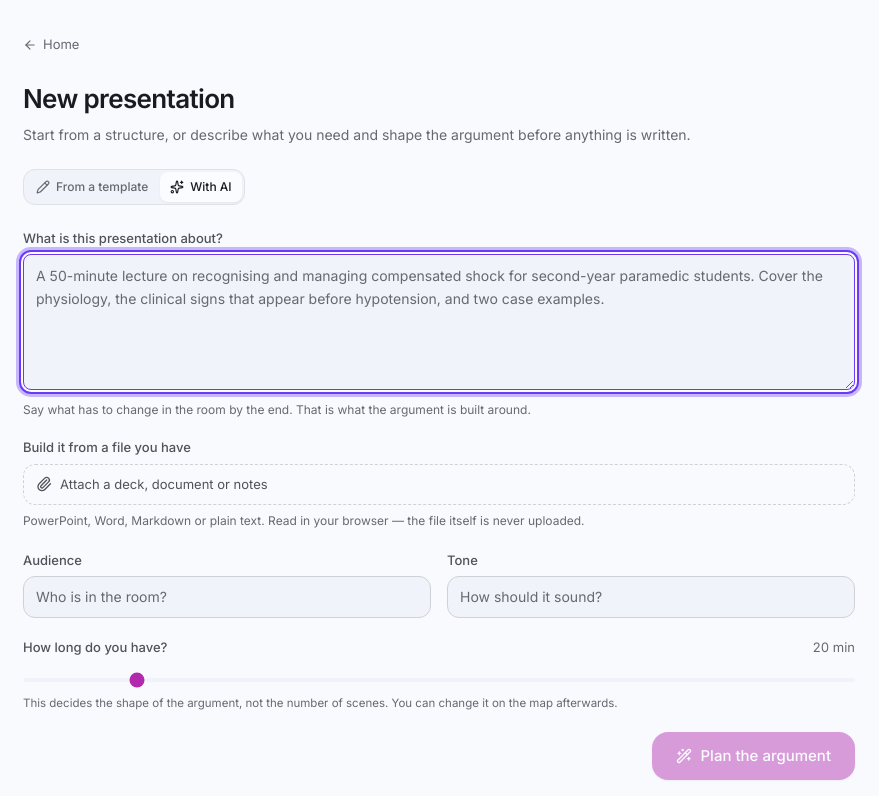
a network failure while generating scenes names the recovery path › points at the dashboard by the map's title instead of implying nothing happened
Type "A talk on peptide therapeutics" into the text box labelled "What is this presentation about?".
click(439, 322); type("A talk on peptide therapeutics")  # box [23,254,855,390]
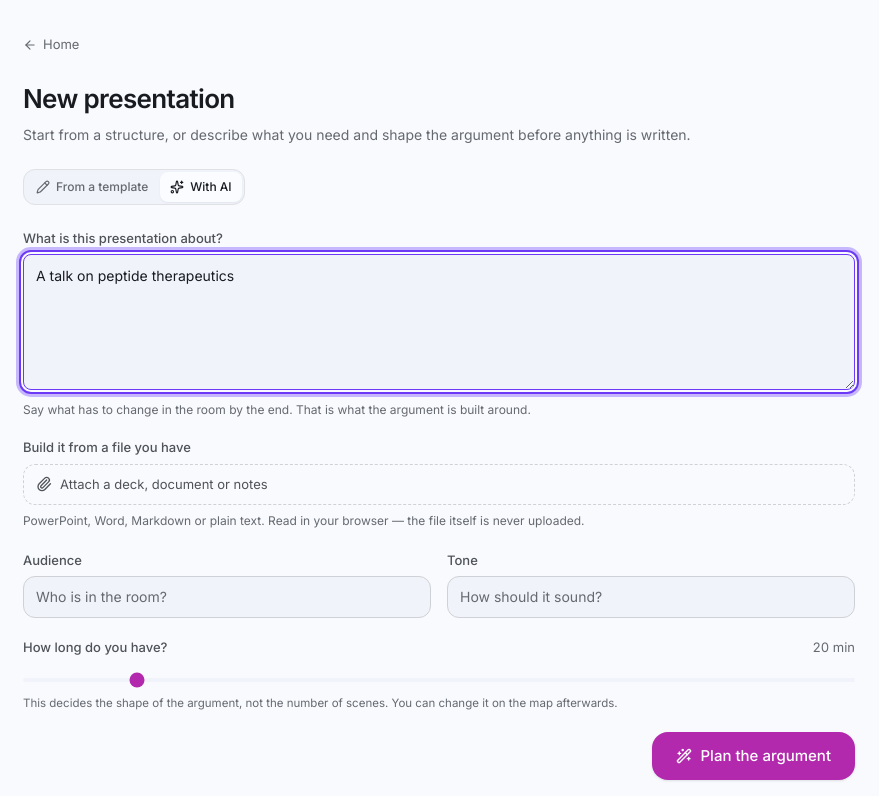
Click the button "Plan the argument".
click(754, 756)  # box [652,732,855,780]
(page scrolled)
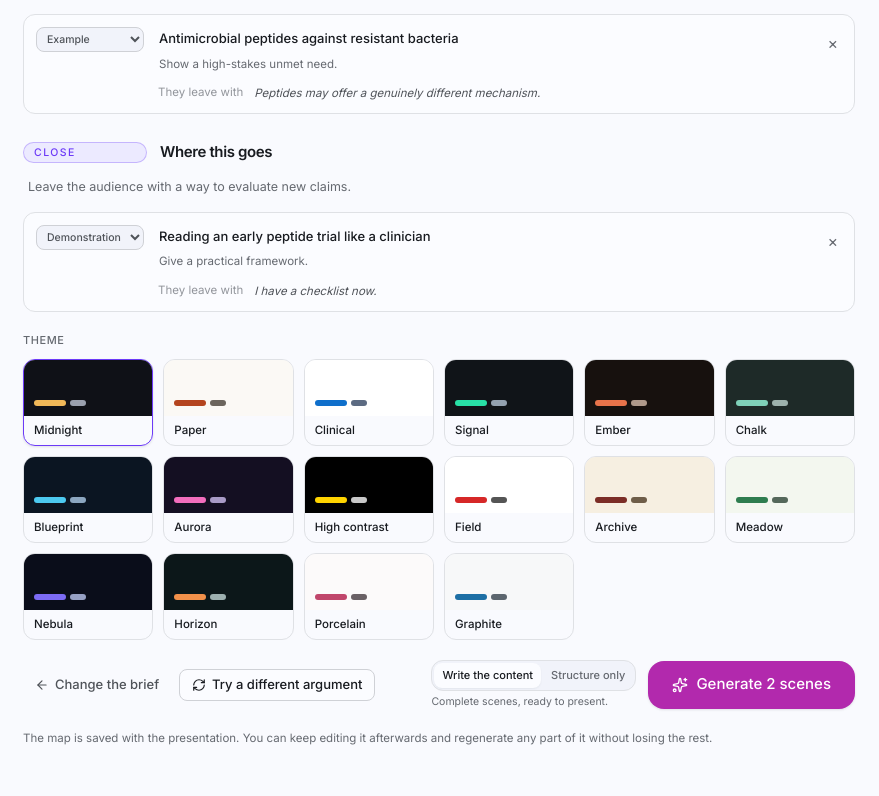
Click the button "Generate 2 scenes".
click(752, 685)  # box [648,661,855,709]
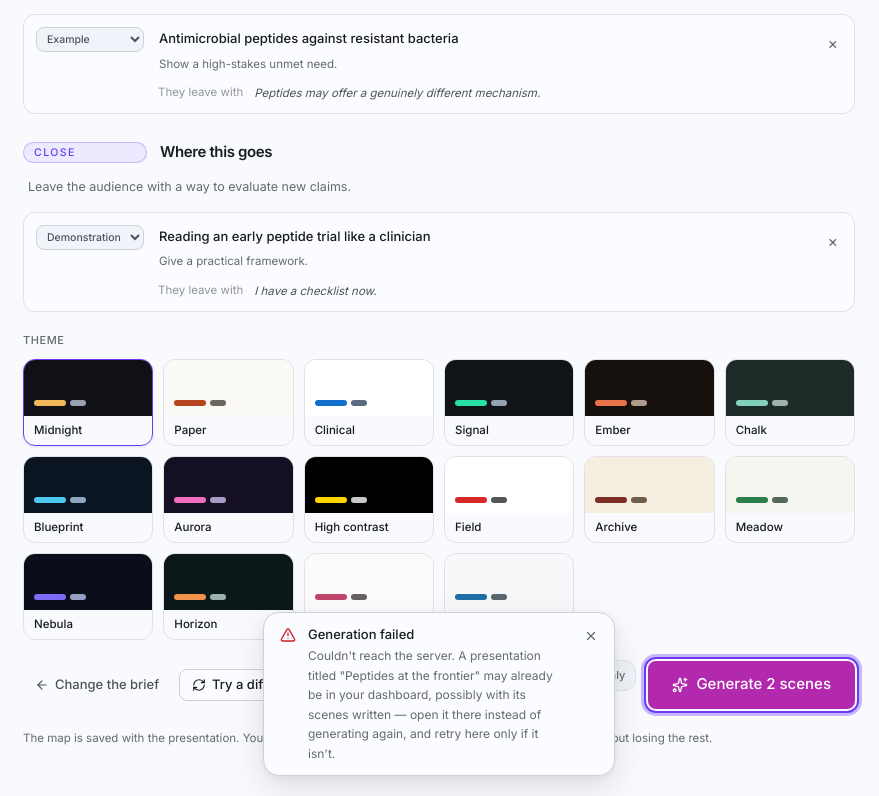
Expected: the text "Generation failed" is shown, [308,626,414,642]
Expected: the text "Peptides at the frontier" is shown, [308,648,553,760]
